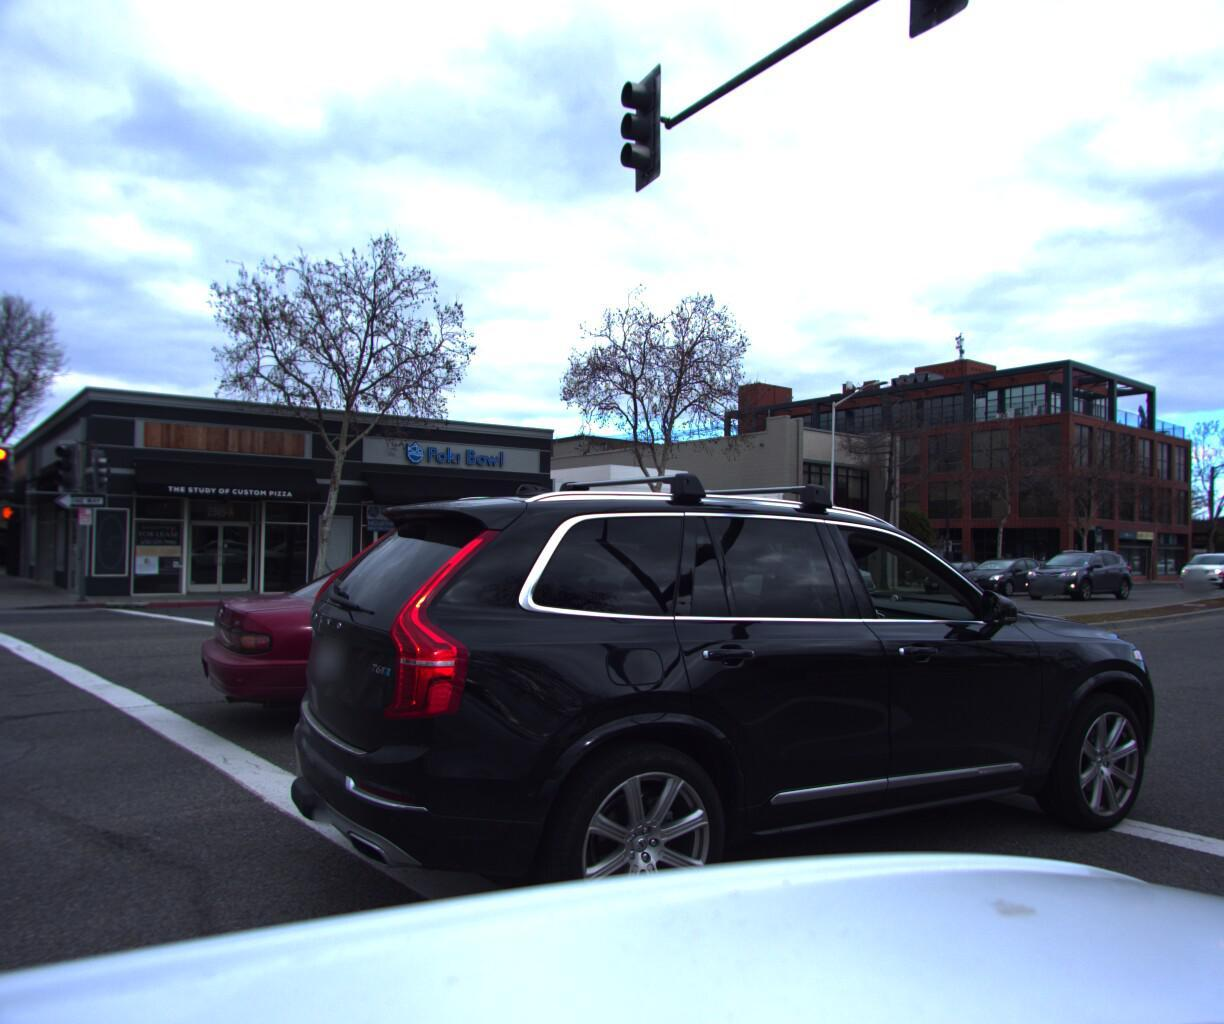car: (278, 424, 1190, 1022), (207, 538, 745, 750), (1017, 541, 1142, 599), (947, 548, 1055, 593), (911, 555, 992, 589), (1170, 545, 1224, 583)
